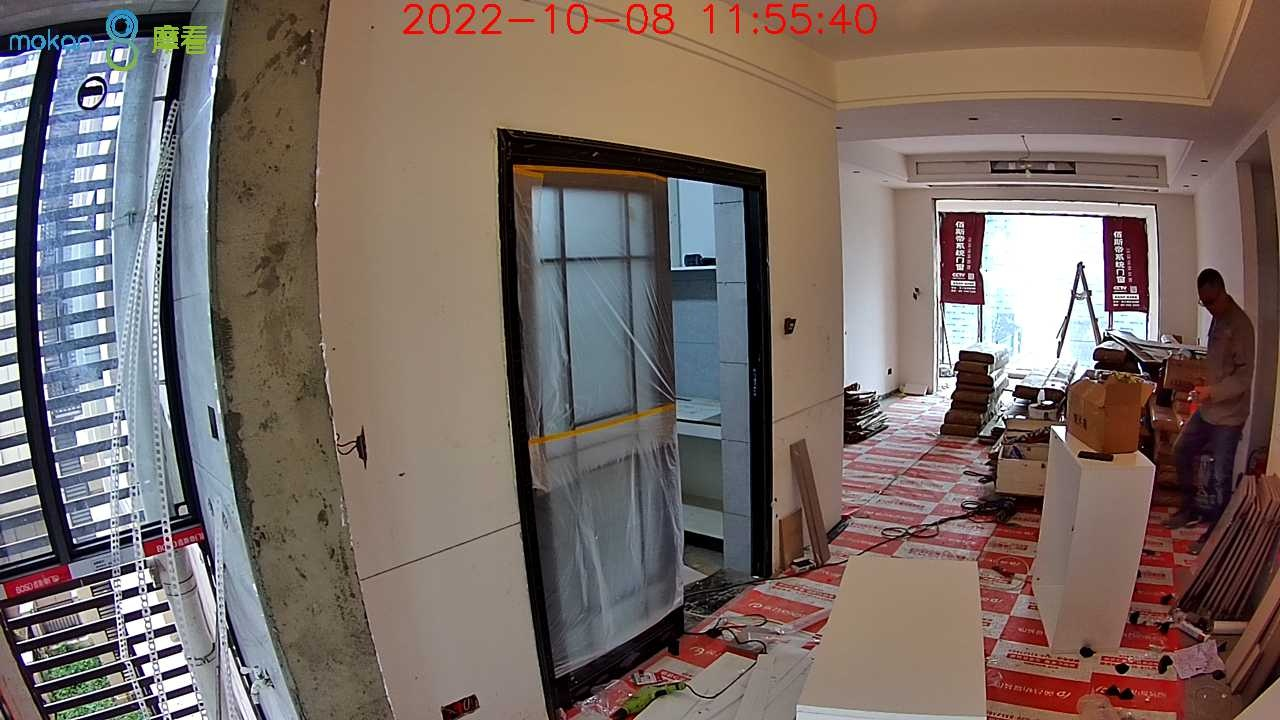people: (1166, 269, 1256, 539)
window: (938, 204, 1148, 372)
